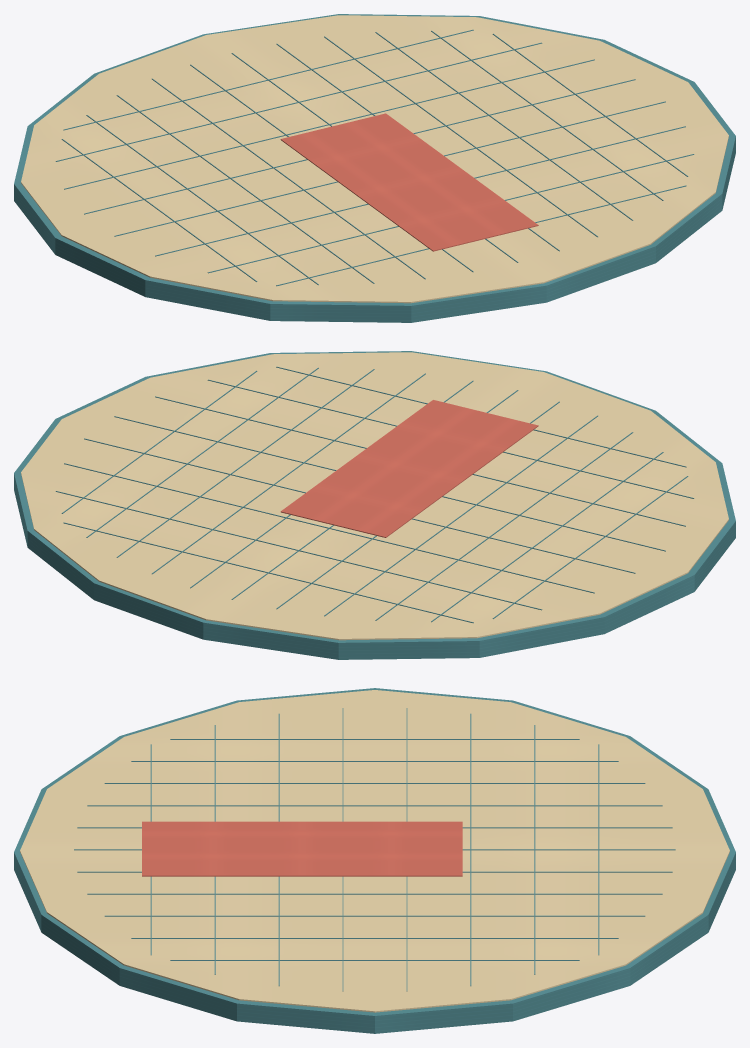
File: atlas100-s073-a07.glb
3 renders of one model, top to bottom at view 1: azimuth 30°, elevation 25°; view 2: azimuth 150°, elevation 25°; view 3: azimuth 270°, elevation 25°, orthographic. The views are drawn at different scales.
Visible parts, largest first — view 1: atlas100-s073-a07:part-001, atlas100-s073-a07:part-000, atlas100-s073-a07:part-021, atlas100-s073-a07:part-015, atlas100-s073-a07:part-014, atlas100-s073-a07:part-017, atlas100-s073-a07:part-016, atlas100-s073-a07:part-018, atlas100-s073-a07:part-013, atlas100-s073-a07:part-019, atlas100-s073-a07:part-009, atlas100-s073-a07:part-005 (+3 smaller); view 2: atlas100-s073-a07:part-001, atlas100-s073-a07:part-000, atlas100-s073-a07:part-021, atlas100-s073-a07:part-015, atlas100-s073-a07:part-014, atlas100-s073-a07:part-016, atlas100-s073-a07:part-017, atlas100-s073-a07:part-018, atlas100-s073-a07:part-013, atlas100-s073-a07:part-019, atlas100-s073-a07:part-009, atlas100-s073-a07:part-005 (+3 smaller); view 3: atlas100-s073-a07:part-001, atlas100-s073-a07:part-000, atlas100-s073-a07:part-021, atlas100-s073-a07:part-009, atlas100-s073-a07:part-005, atlas100-s073-a07:part-010.
Boxes of the visible parts, x1,y1,x2,y2 form: atlas100-s073-a07:part-001: (21,15,728,303); atlas100-s073-a07:part-000: (14,14,735,322); atlas100-s073-a07:part-021: (280,113,538,251); atlas100-s073-a07:part-015: (64,59,594,189); atlas100-s073-a07:part-014: (55,42,542,161); atlas100-s073-a07:part-017: (114,101,665,236); atlas100-s073-a07:part-016: (84,79,635,214); atlas100-s073-a07:part-018: (155,126,685,256); atlas100-s073-a07:part-013: (63,29,473,130); atlas100-s073-a07:part-019: (207,154,694,273); atlas100-s073-a07:part-009: (324,36,597,237); atlas100-s073-a07:part-005: (152,78,425,279); atlas100-s073-a07:part-001: (21,352,728,640); atlas100-s073-a07:part-000: (14,351,735,659); atlas100-s073-a07:part-021: (280,400,538,537); atlas100-s073-a07:part-015: (64,463,594,593); atlas100-s073-a07:part-014: (55,491,542,610); atlas100-s073-a07:part-016: (84,438,635,573); atlas100-s073-a07:part-017: (114,416,665,551); atlas100-s073-a07:part-018: (155,396,685,526); atlas100-s073-a07:part-013: (63,522,473,623); atlas100-s073-a07:part-019: (207,379,694,498); atlas100-s073-a07:part-009: (152,373,425,574); atlas100-s073-a07:part-005: (324,415,597,616); atlas100-s073-a07:part-001: (20,690,729,1012); atlas100-s073-a07:part-000: (14,688,735,1033); atlas100-s073-a07:part-021: (142,821,462,876); atlas100-s073-a07:part-009: (87,893,662,894); atlas100-s073-a07:part-005: (87,805,662,806); atlas100-s073-a07:part-010: (104,915,645,916).
Size of the model in its own units: 13.35 by 0.404 by 12.42.
Materials: 3 (3 with a texture image).
